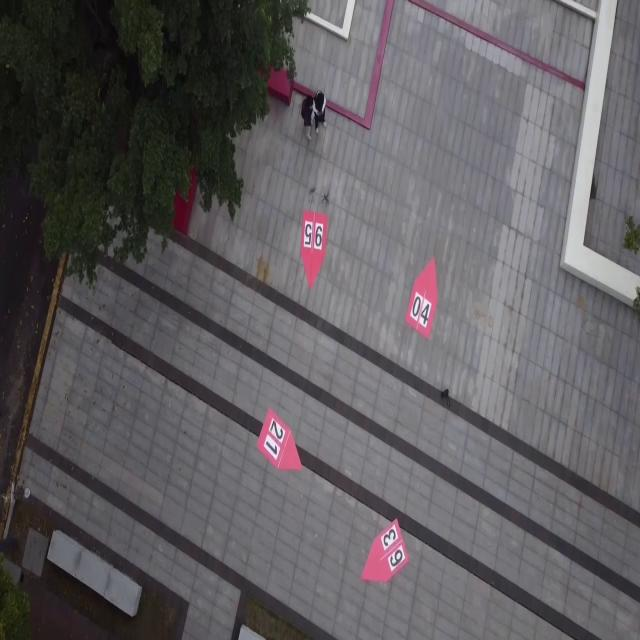-sign-: (361, 519, 410, 585), (256, 406, 303, 473), (405, 256, 439, 341), (300, 208, 327, 290)
